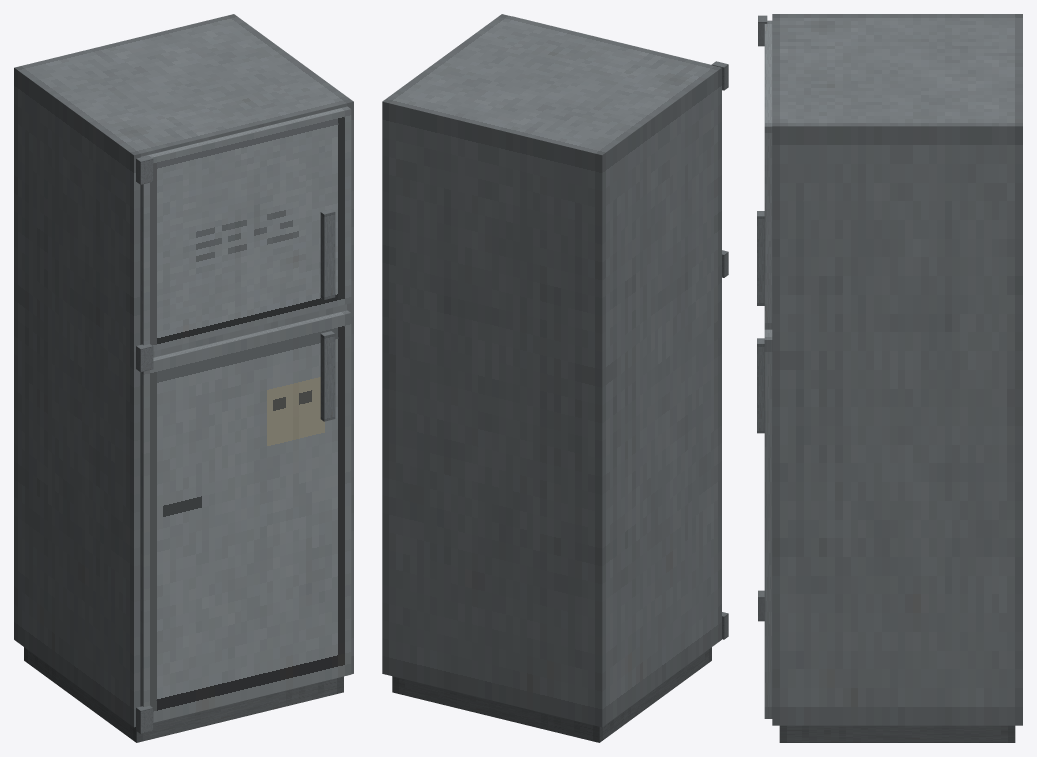
Rendered from fridge.glb.
3 views of the same model, side by side, from view 1: azimuth 30°, elevation 25°; view 2: azimuth 150°, elevation 25°; view 3: azimuth 270°, elevation 25° (orthographic). The views are drawn at different scales.
Visible parts, largest first — view 1: core_fridge; view 2: core_fridge; view 3: core_fridge.
Part boxes in pixels (<box>): core_fridge: <box>14,14,353,742</box>; core_fridge: <box>382,14,728,742</box>; core_fridge: <box>757,14,1022,742</box>.
Size of the model in its own units: 0.7 by 1.8 by 0.7.
1 material, 1 textured.
